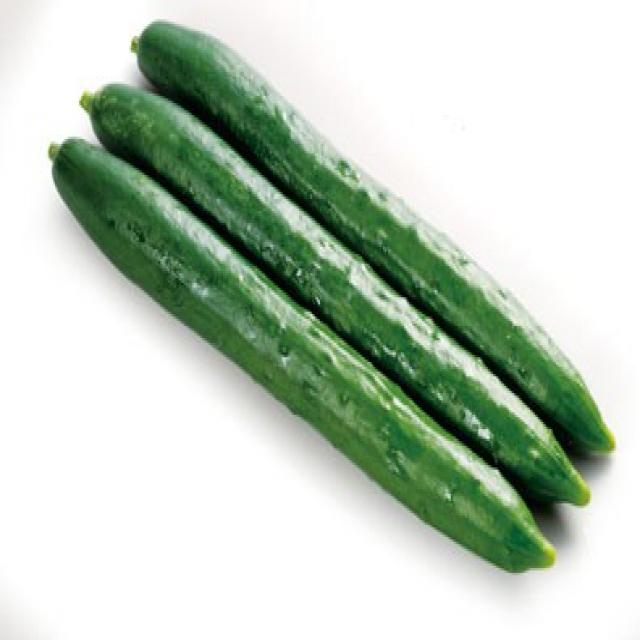cucumber: (38, 1, 622, 640)
